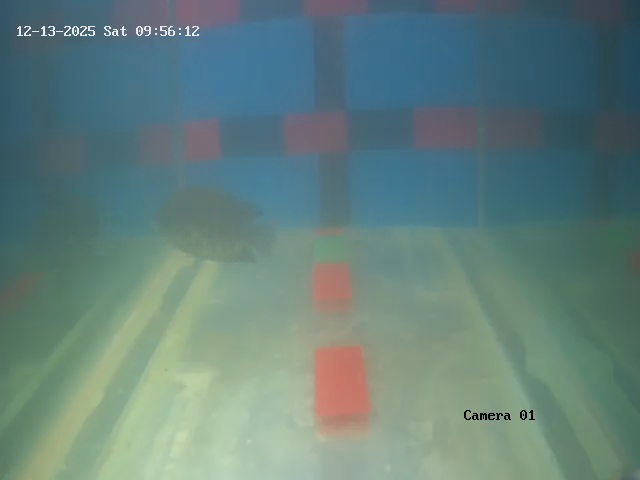fish: (138, 182, 271, 277)
